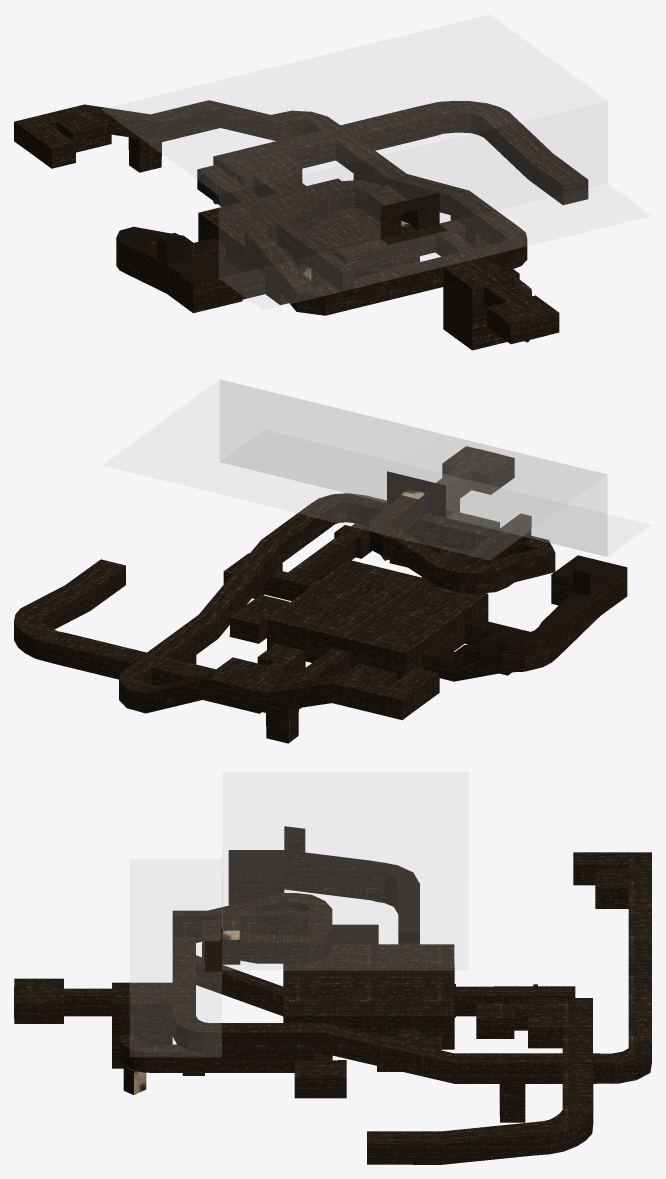
Rendered from Area1_Final.FBX.
3 views of the same model, one above another, from view 1: azimuth 30°, elevation 25°; view 2: azimuth 150°, elevation 25°; view 3: azimuth 270°, elevation 25° (orthographic). The views are drawn at different scales.
Parts seen in each view (by area): view 1: Cube.002, Cube; view 2: Cube, Cube.002; view 3: Cube, Cube.002.
Boxes of the visible parts, bbox=[...] form: Cube.002: bbox=[102, 15, 650, 309]; Cube: bbox=[14, 100, 588, 350]; Cube: bbox=[14, 446, 627, 743]; Cube.002: bbox=[103, 380, 650, 559]; Cube: bbox=[14, 826, 651, 1164]; Cube.002: bbox=[130, 772, 468, 1056].
Size of the model in its own units: 24500 by 9597 by 28006.
